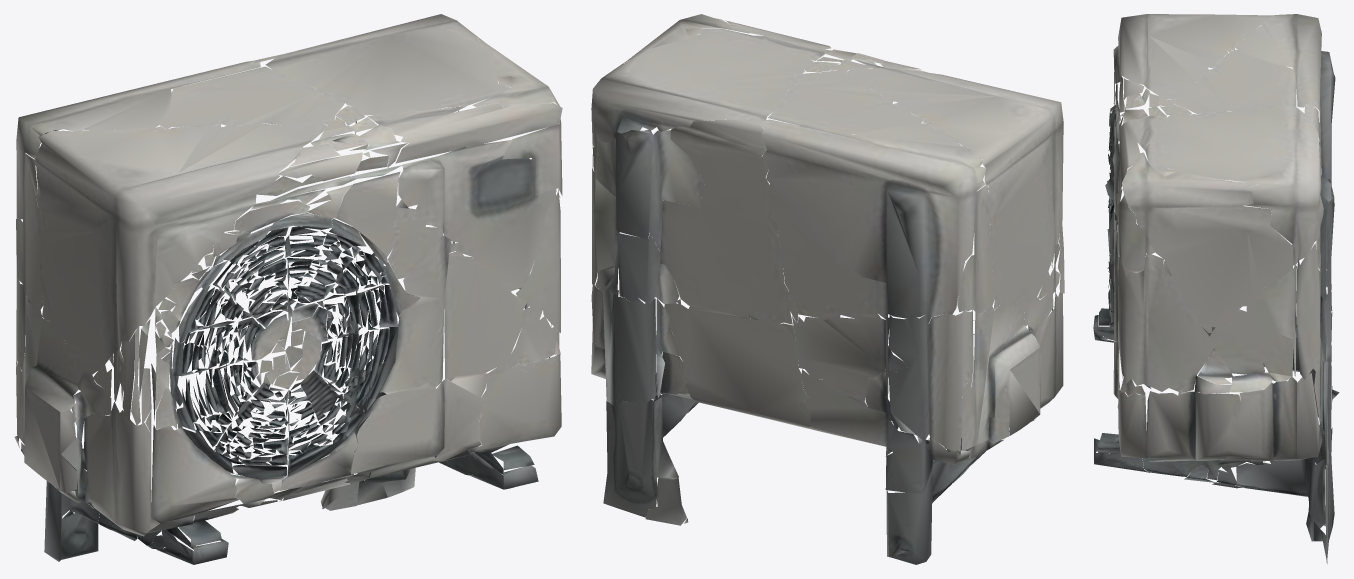
File: prop19.glb
3 views of the same model, side by side, from view 1: azimuth 30°, elevation 25°; view 2: azimuth 150°, elevation 25°; view 3: azimuth 270°, elevation 25° (orthographic). The views are drawn at different scales.
Parts seen in each view (by area): view 1: tripo_node_abddc7d7-3a86-4c85-8381-1dbe057d85f8; view 2: tripo_node_abddc7d7-3a86-4c85-8381-1dbe057d85f8; view 3: tripo_node_abddc7d7-3a86-4c85-8381-1dbe057d85f8.
Boxes of the visible parts, <box> form: tripo_node_abddc7d7-3a86-4c85-8381-1dbe057d85f8: <box>14,14,562,564</box>; tripo_node_abddc7d7-3a86-4c85-8381-1dbe057d85f8: <box>591,14,1064,564</box>; tripo_node_abddc7d7-3a86-4c85-8381-1dbe057d85f8: <box>1093,14,1339,563</box>.
Size of the model in its own units: 1 by 0.9739 by 0.5473.
1 material, 1 textured.
